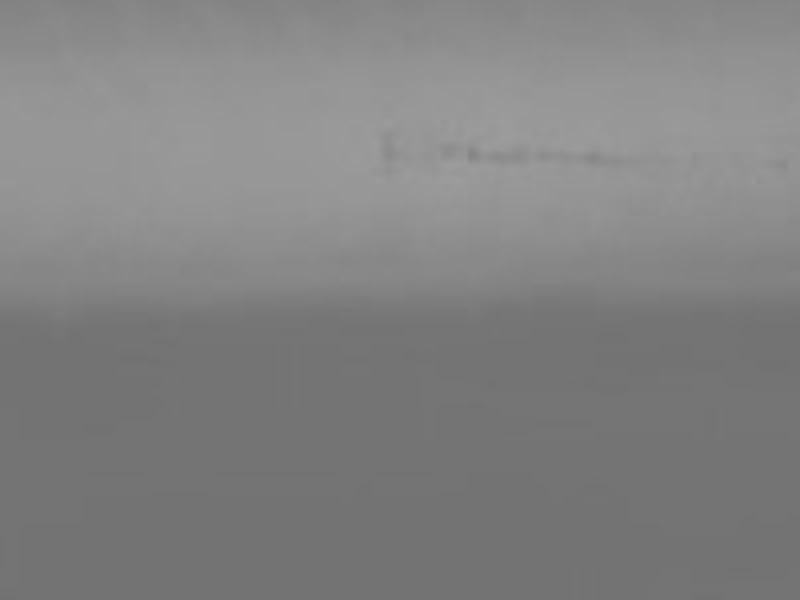defect: (373, 130, 399, 168), (505, 145, 527, 167), (580, 148, 598, 166), (440, 143, 456, 159), (773, 155, 789, 171), (601, 152, 617, 168), (465, 147, 480, 162), (490, 149, 505, 164), (533, 149, 548, 164)
